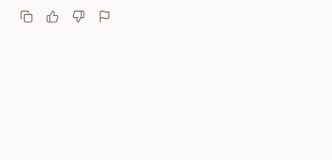
Test: HunterMessageFeedback → PostHog › Helpful fires hunter_chat_response_rated:helpful and confirms receipt
Click the button named "Helpful": (52, 16) [40, 4, 64, 28]
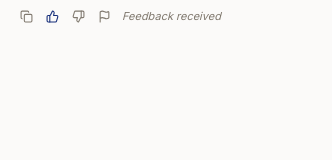
Check: the text "Feedback received" is shown, box [122, 8, 221, 24]
